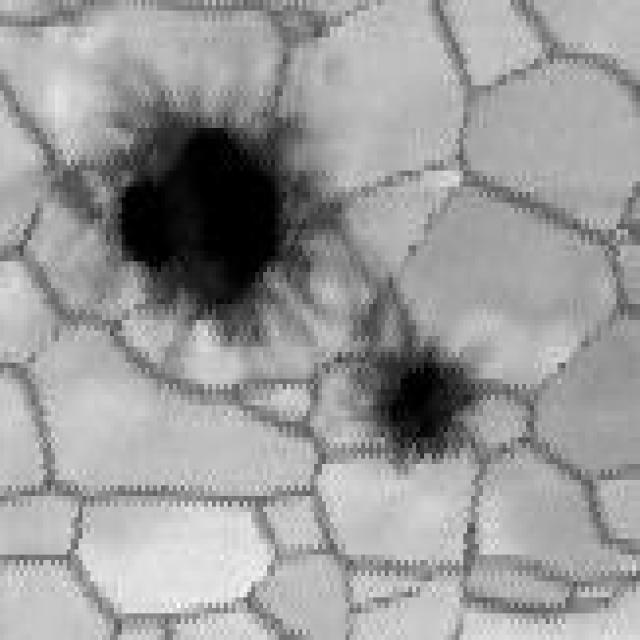good_void: (97, 83, 343, 350), (350, 276, 481, 467)
